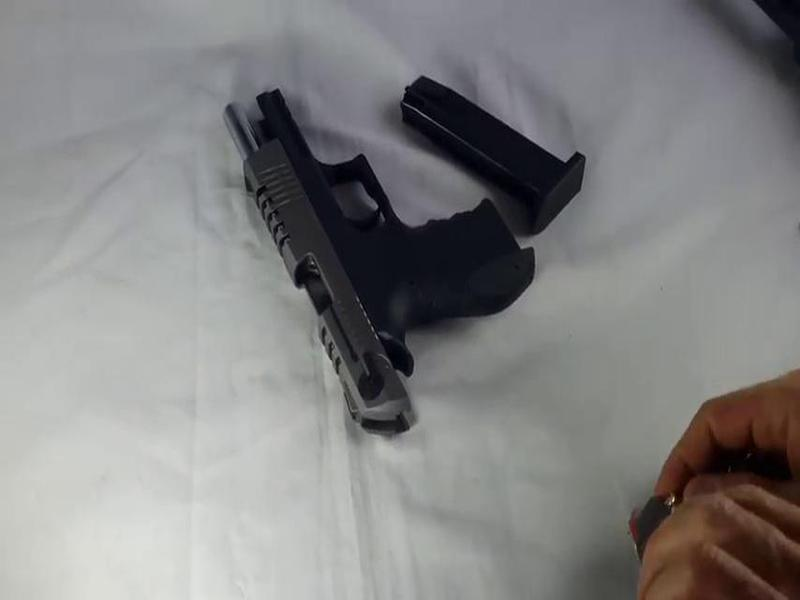Pistola: (215, 82, 550, 429)
